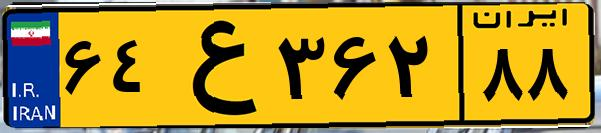2: (385, 28, 445, 110)
3: (270, 28, 330, 110)
4: (110, 28, 158, 98)
6: (330, 28, 385, 110), (57, 26, 110, 100)
8: (475, 38, 525, 113), (525, 38, 570, 115)
ع: (158, 12, 270, 120)
